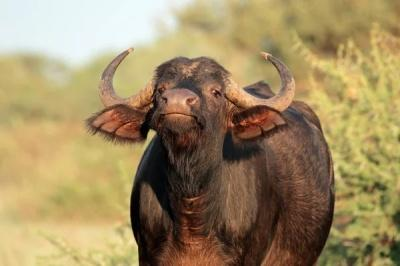buffalo: (84, 48, 335, 266)
